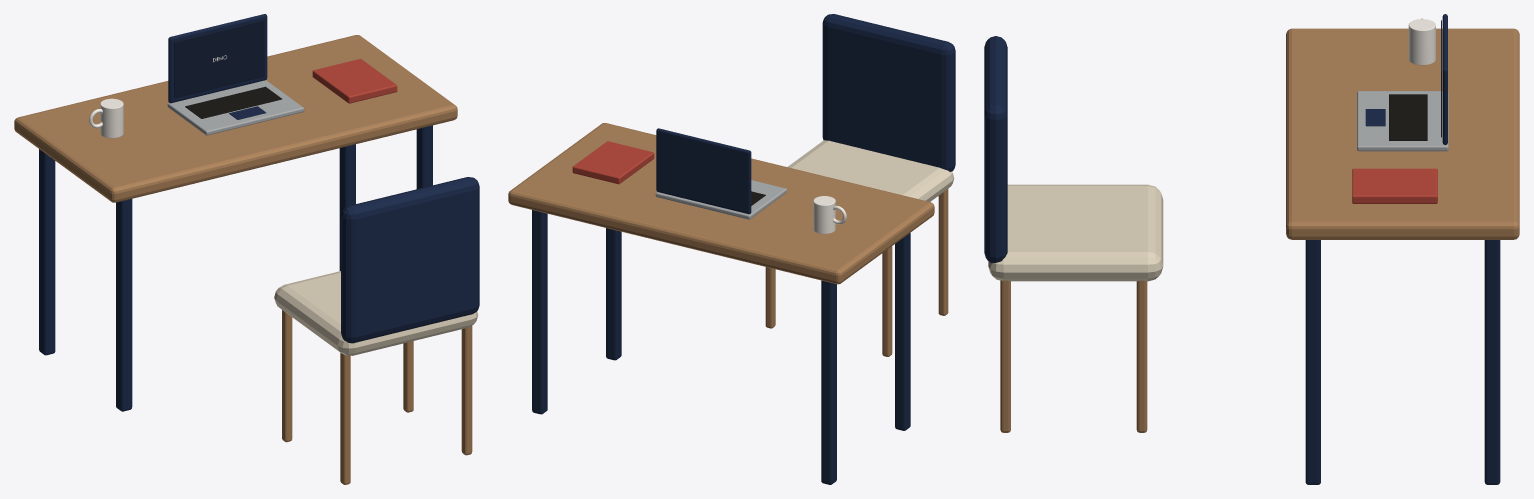
File: 07_workspace.glb
The picture shows the model from 3 angles, left to right: view 1: azimuth 30°, elevation 25°; view 2: azimuth 150°, elevation 25°; view 3: azimuth 270°, elevation 25°; orthographic projection. The views are drawn at different scales.
Parts seen in each view (by area): view 1: Desk_Top, Chair_Back, Laptop_Replaceable_Screen, Chair_Seat, Desk_Leg, Desk_Leg.001, Laptop_Base, Notebook, Laptop_Lid, Chair_Leg.003, Laptop_Keyboard, Chair_Leg.001 (+5 smaller); view 2: Desk_Top, Chair_Back, Laptop_Lid, Chair_Seat, Desk_Leg.003, Desk_Leg.001, Desk_Leg, Notebook, Desk_Leg.002, Chair_Leg.001, Laptop_Base, Chair_Leg (+2 smaller); view 3: Desk_Top, Chair_Seat, Chair_Back, Desk_Leg.003, Desk_Leg.002, Laptop_Base, Notebook, Laptop_Keyboard, Chair_Leg.002, Chair_Leg.003, Desk_Mug, Laptop_Lid.
Boxes of the visible parts, x1=… form: Desk_Top: x1=14, y1=35, x2=457, y2=202; Chair_Back: x1=341, y1=177, x2=479, y2=343; Laptop_Replaceable_Screen: x1=174, y1=20, x2=264, y2=98; Chair_Seat: x1=274, y1=271, x2=478, y2=355; Desk_Leg: x1=116, y1=199, x2=132, y2=411; Desk_Leg.001: x1=39, y1=149, x2=55, y2=355; Laptop_Base: x1=167, y1=80, x2=304, y2=135; Notebook: x1=312, y1=59, x2=397, y2=103; Laptop_Lid: x1=168, y1=14, x2=267, y2=103; Chair_Leg.003: x1=461, y1=325, x2=472, y2=455; Laptop_Keyboard: x1=185, y1=86, x2=281, y2=118; Chair_Leg.001: x1=340, y1=352, x2=350, y2=484; Desk_Top: x1=508, y1=123, x2=934, y2=284; Chair_Back: x1=822, y1=14, x2=955, y2=171; Laptop_Lid: x1=656, y1=128, x2=751, y2=214; Chair_Seat: x1=787, y1=140, x2=954, y2=201; Desk_Leg.003: x1=532, y1=210, x2=547, y2=414; Desk_Leg.001: x1=821, y1=280, x2=836, y2=484; Desk_Leg: x1=895, y1=233, x2=910, y2=430; Notebook: x1=572, y1=141, x2=654, y2=184; Desk_Leg.002: x1=606, y1=228, x2=621, y2=360; Chair_Leg.001: x1=938, y1=189, x2=948, y2=315; Laptop_Base: x1=655, y1=180, x2=786, y2=219; Chair_Leg: x1=882, y1=246, x2=892, y2=356; Desk_Top: x1=1286, y1=28, x2=1519, y2=239; Chair_Seat: x1=988, y1=184, x2=1163, y2=281; Chair_Back: x1=984, y1=36, x2=1007, y2=263; Desk_Leg.003: x1=1484, y1=240, x2=1500, y2=484; Desk_Leg.002: x1=1305, y1=240, x2=1320, y2=484; Laptop_Base: x1=1357, y1=91, x2=1448, y2=151; Notebook: x1=1352, y1=168, x2=1437, y2=203; Laptop_Keyboard: x1=1389, y1=94, x2=1427, y2=140; Chair_Leg.002: x1=1136, y1=280, x2=1147, y2=432; Chair_Leg.003: x1=1000, y1=280, x2=1010, y2=432; Desk_Mug: x1=1408, y1=19, x2=1435, y2=65; Laptop_Lid: x1=1442, y1=14, x2=1447, y2=144.
Size of the model in its own units: 1.2 by 1.01 by 1.37.
